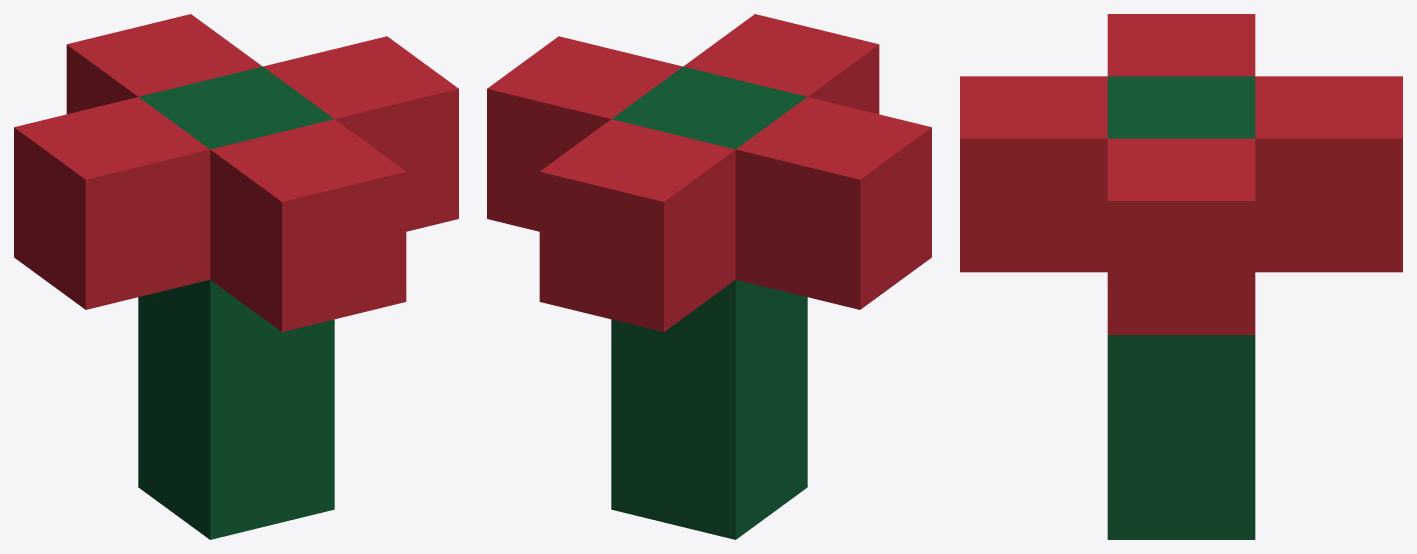
File: flower_g_5.obj
3 views of the same model, side by side, from view 1: azimuth 30°, elevation 25°; view 2: azimuth 150°, elevation 25°; view 3: azimuth 270°, elevation 25° (orthographic). The views are drawn at different scales.
Size of the model in its own units: 0.3 by 0.3 by 0.3.
1 material, 1 textured.
